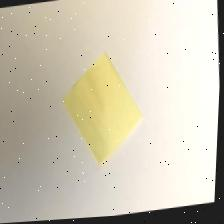paper: (47, 33, 153, 176)
